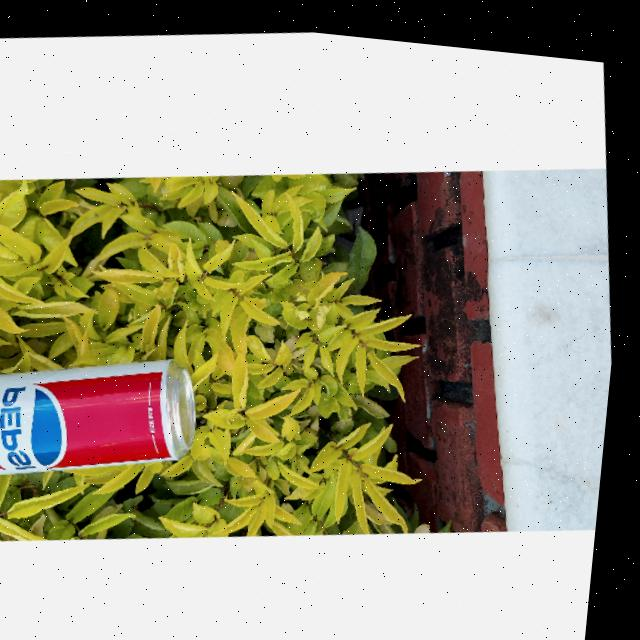Pepsi Retro: (0, 333, 213, 495)
